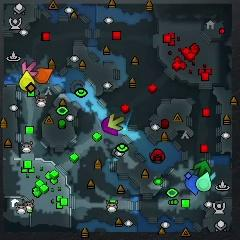p1: (185, 174, 199, 195)
p2: (196, 172, 212, 191)
p3: (101, 117, 119, 136)
p4: (19, 70, 35, 91)
p5: (35, 68, 53, 84)
x1: (21, 60, 37, 76)
x2: (108, 113, 125, 130)
x3: (210, 171, 216, 181)
x4: (194, 160, 210, 176)
